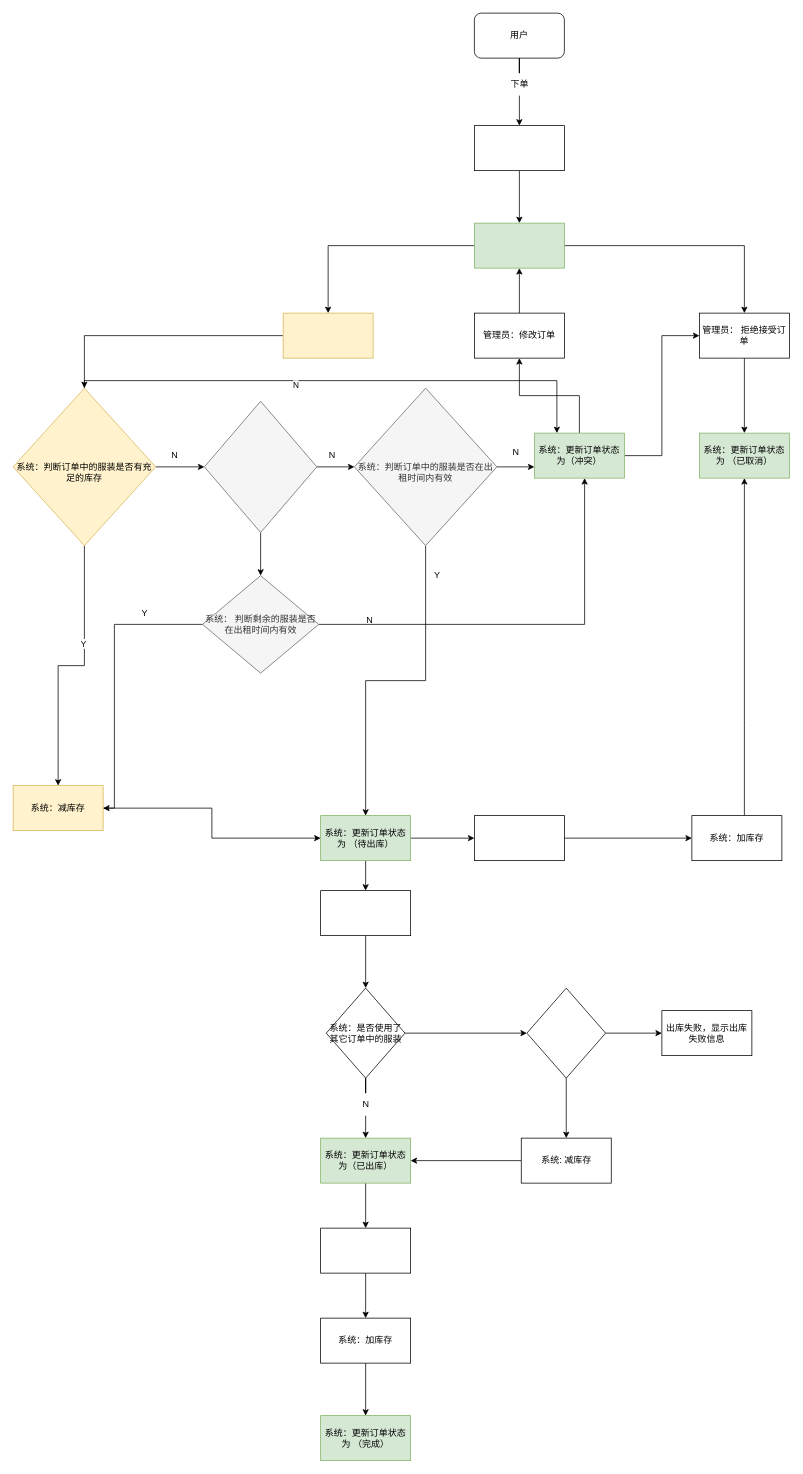
Some shapes in this 803 by 1474 pixel diagram are drawn without their labels. The shapes that lost their labels are listed below. From the top down, each one's centre as x and y in pixels, then its label:
At (519,148): "系统：生成订单".
At (519,245): "系统：更新订单状态（待确认）".
At (327,335): "管理员：接受订单".
At (260,466): "检查是否库存有剩余".
At (519,838): "管理员: 取消订单".
At (365,913): "管理员: 出库".
At (566,1032): "系统： 订单是否已经完成".
At (365,1250): "管理员: 入库".
